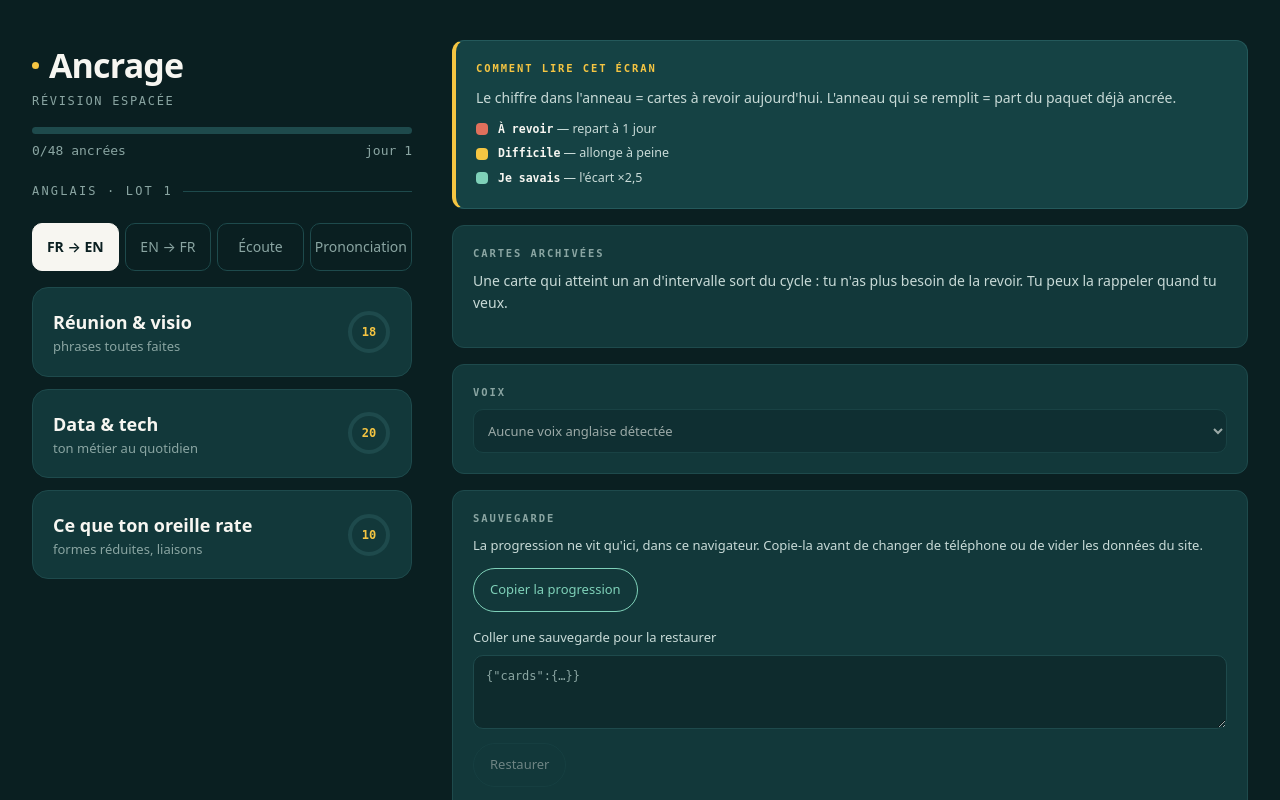
Test: raccourcis clavier › n’existent pas sous le palier ordinateur
The width and height of the screenshot is (1280, 800).
Step 1. Click the button "Réunion & visio phrases toutes faites 18" → (122, 322), box [32, 287, 412, 377]
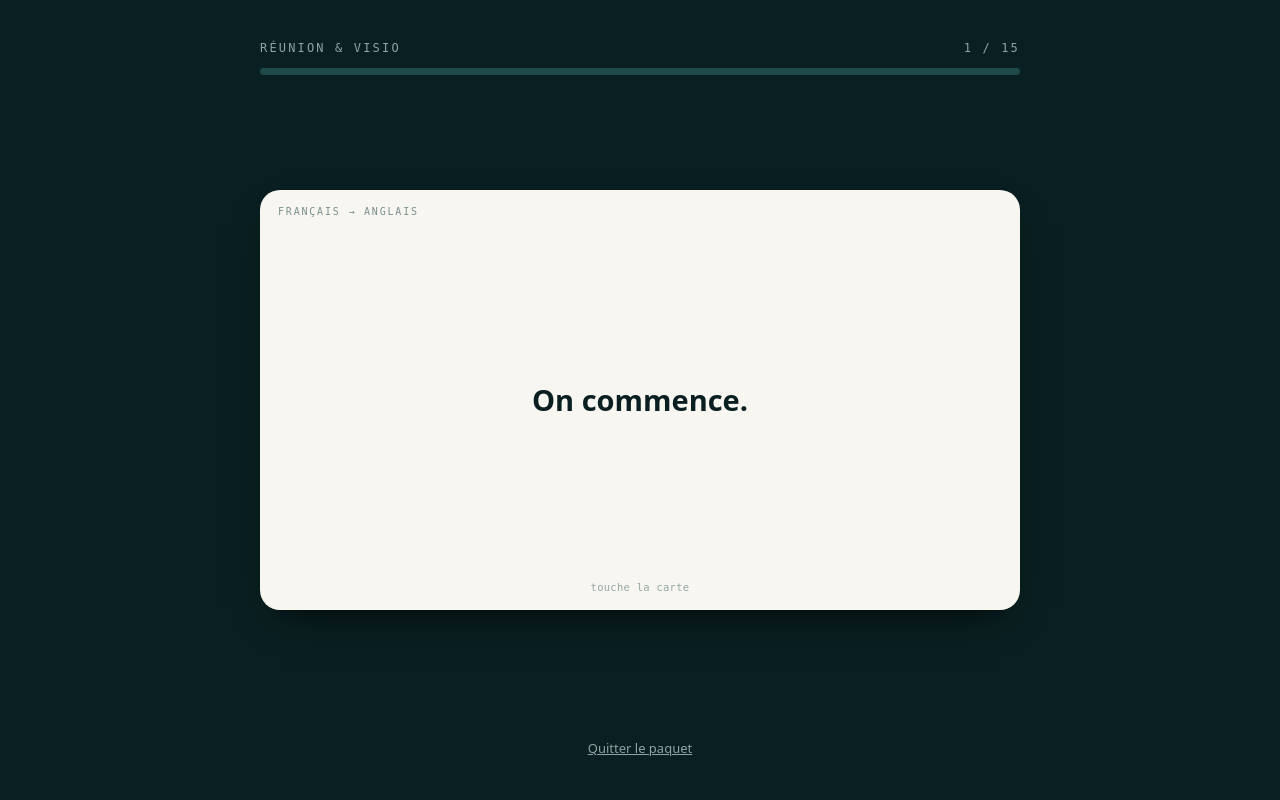
Check: the text "Je savais" is gone
